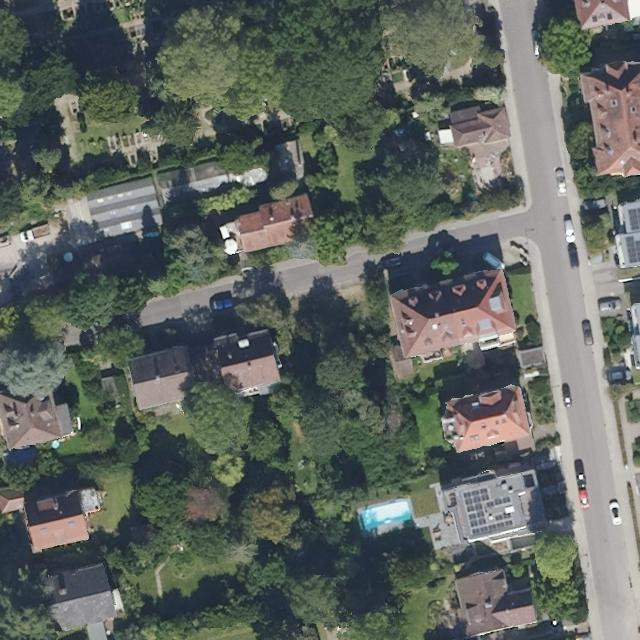PV: (462, 486, 514, 537), (624, 236, 639, 264), (626, 207, 639, 232)
